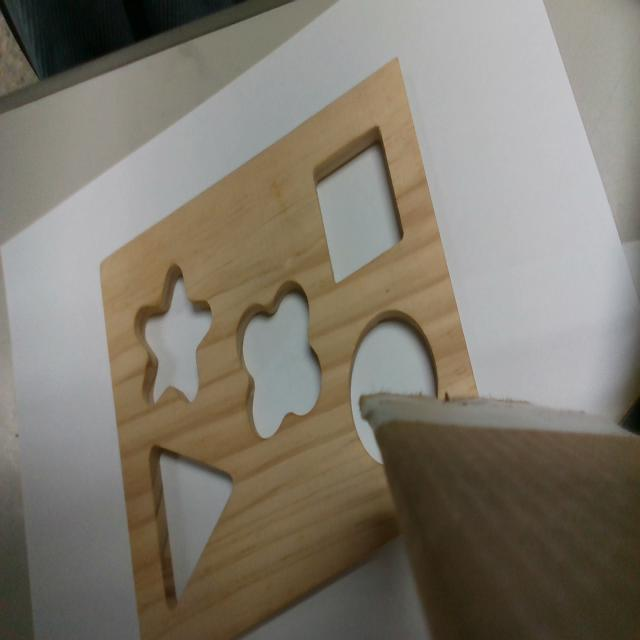circle: (350, 310, 438, 465)
flower: (235, 277, 323, 441)
square: (310, 123, 407, 287)
star: (135, 266, 213, 403)
triangle: (148, 445, 234, 609)
